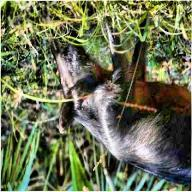boar: (40, 22, 192, 188)
